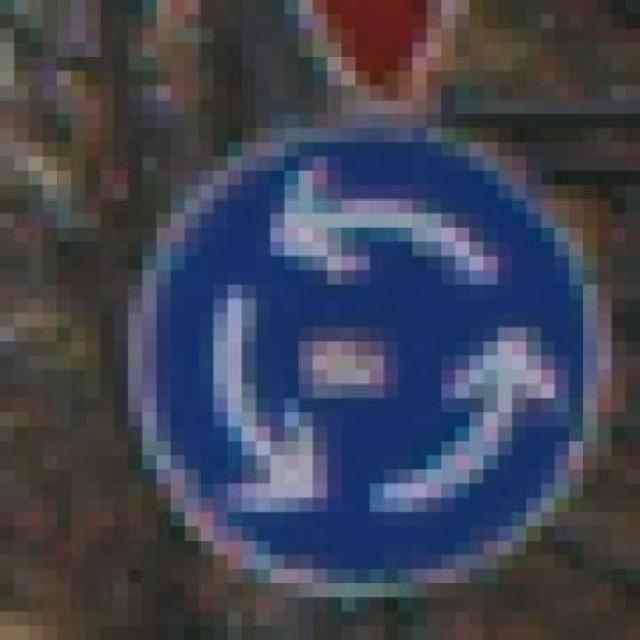Round-About: (71, 100, 626, 626)
